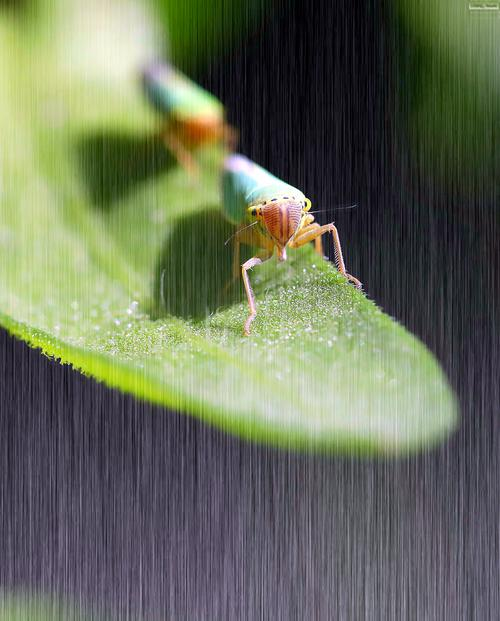Cicadellidae: (214, 154, 331, 303), (136, 55, 233, 164)
